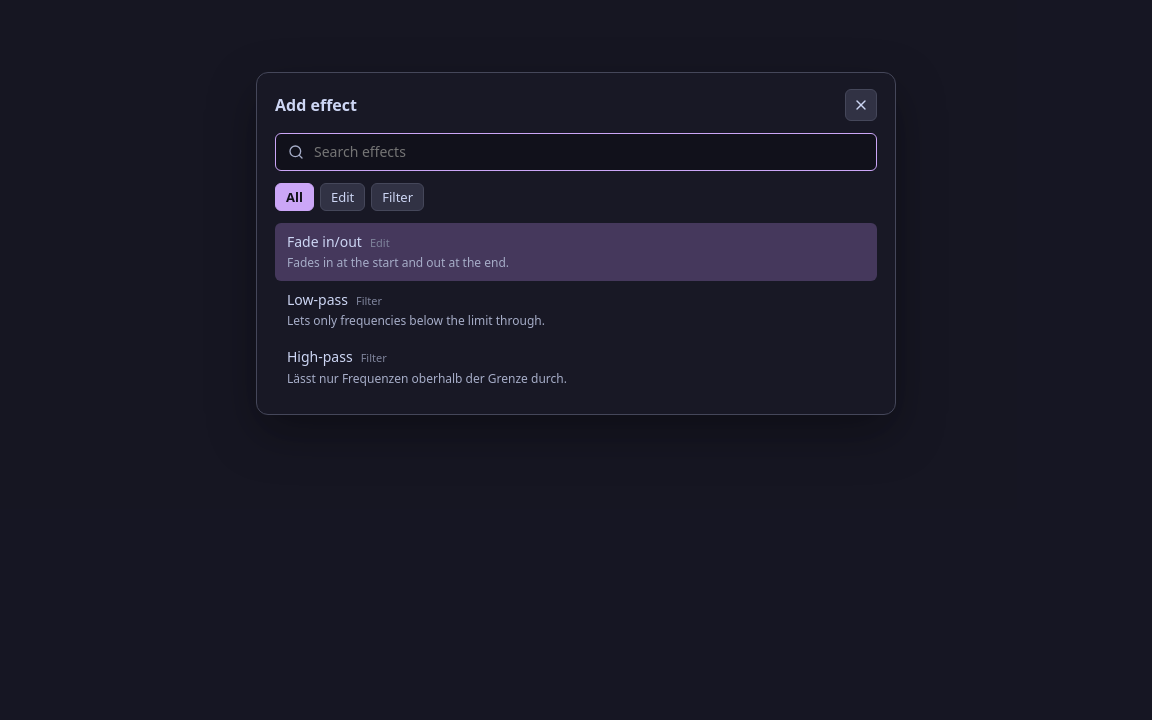
Test case: effect picker › category_chip_narrows_the_list
The width and height of the screenshot is (1152, 720).
Click the button "Filter" at (398,197), box [371, 183, 424, 211]
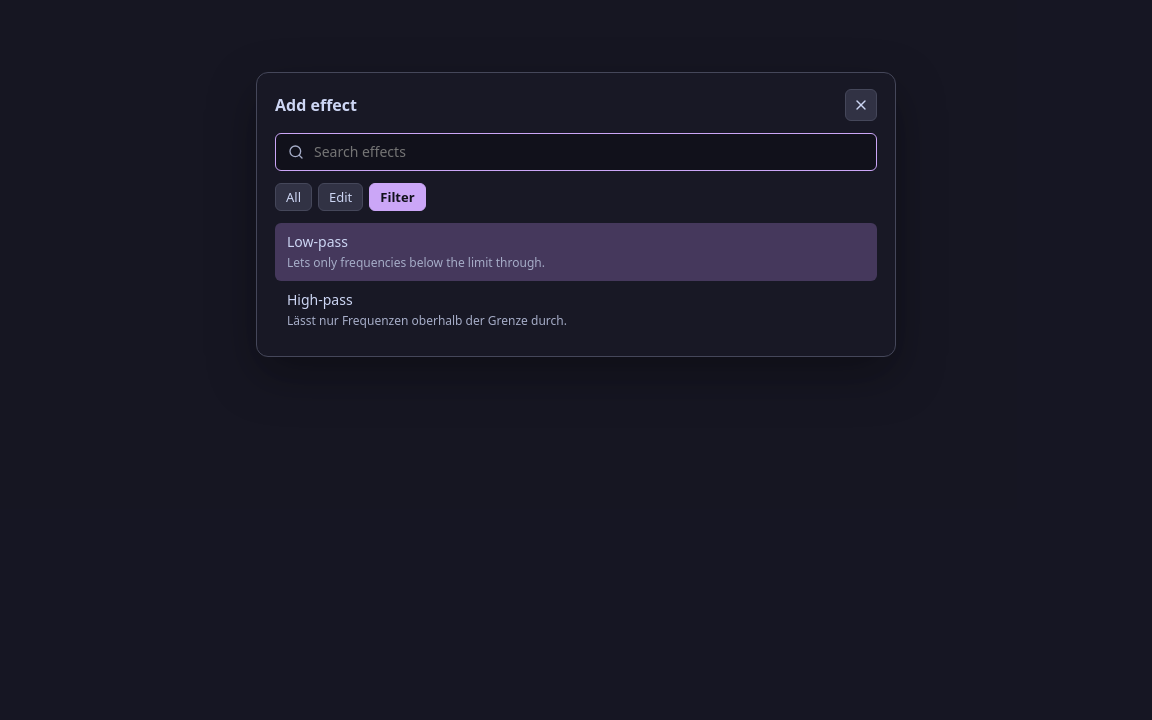
Check: the text "Low-pass" is shown, box [287, 232, 348, 252]
Check: the option "Fade in/out" is gone
